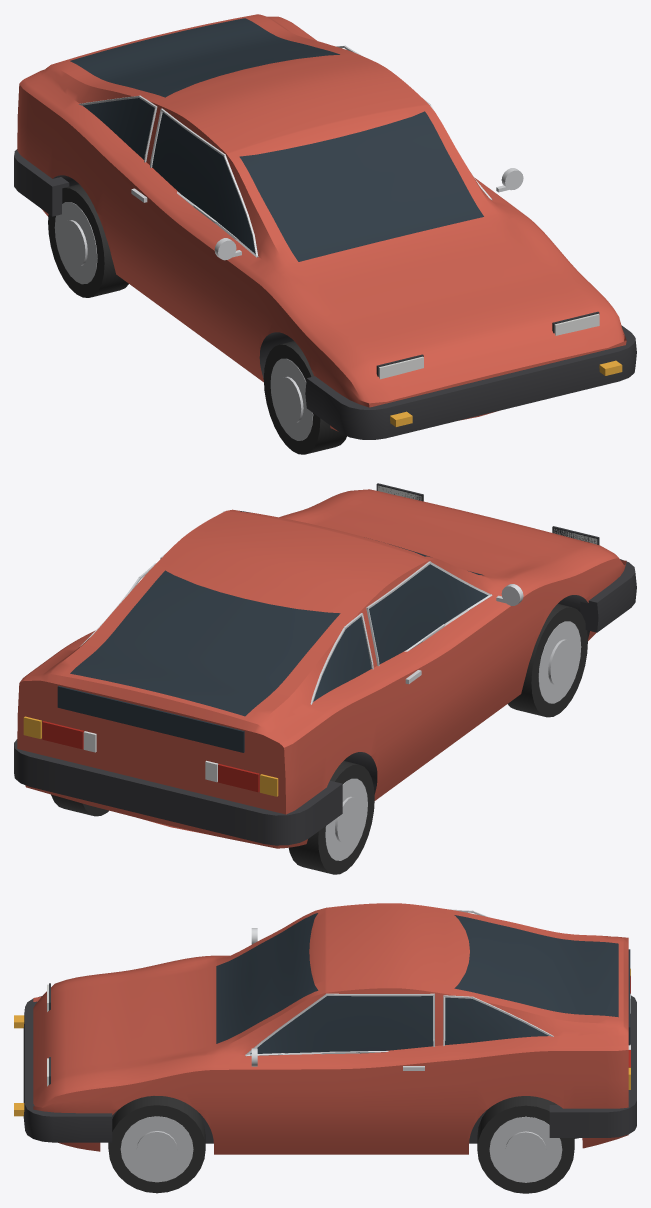
The model's file is crx.glb.
3 renders of one model, top to bottom at view 1: azimuth 30°, elevation 25°; view 2: azimuth 150°, elevation 25°; view 3: azimuth 270°, elevation 25°, orthographic. The views are drawn at different scales.
Visible parts, largest first — view 1: paint, glass, trim, wheel_rr, wheel_fr, headlights, mirrors; view 2: paint, glass, trim, wheel_fr, wheel_rr, glass_tail, taillights; view 3: paint, glass, trim, wheel_fl, wheel_rl.
Boxes of the visible parts, bbox=[...] form: paint: bbox=[17, 14, 626, 431]; glass: bbox=[70, 18, 483, 261]; trim: bbox=[14, 45, 636, 439]; wheel_rr: bbox=[48, 184, 128, 297]; wheel_fr: bbox=[263, 341, 346, 454]; headlights: bbox=[379, 313, 599, 379]; mirrors: bbox=[214, 168, 523, 260]; paint: bbox=[17, 489, 626, 848]; glass: bbox=[70, 511, 488, 716]; trim: bbox=[14, 483, 636, 845]; wheel_fr: bbox=[508, 604, 587, 717]; wheel_rr: bbox=[288, 761, 374, 874]; glass_tail: bbox=[57, 686, 244, 752]; taillights: bbox=[42, 721, 259, 792]; paint: bbox=[33, 903, 628, 1154]; glass: bbox=[216, 913, 618, 1054]; trim: bbox=[23, 909, 636, 1142]; wheel_fl: bbox=[108, 1096, 205, 1193]; wheel_rl: bbox=[477, 1096, 574, 1193].
Bounding box in the file's own units: 1.81 × 1.29 × 3.72.
